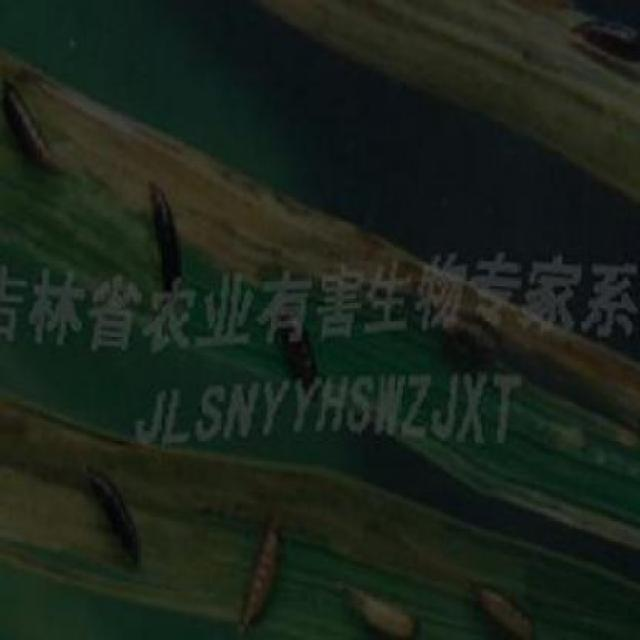whorl-maggot: (80, 460, 149, 582), (230, 502, 288, 638), (3, 68, 65, 189), (337, 569, 423, 640), (466, 569, 542, 640), (140, 175, 192, 268), (567, 3, 640, 64)
